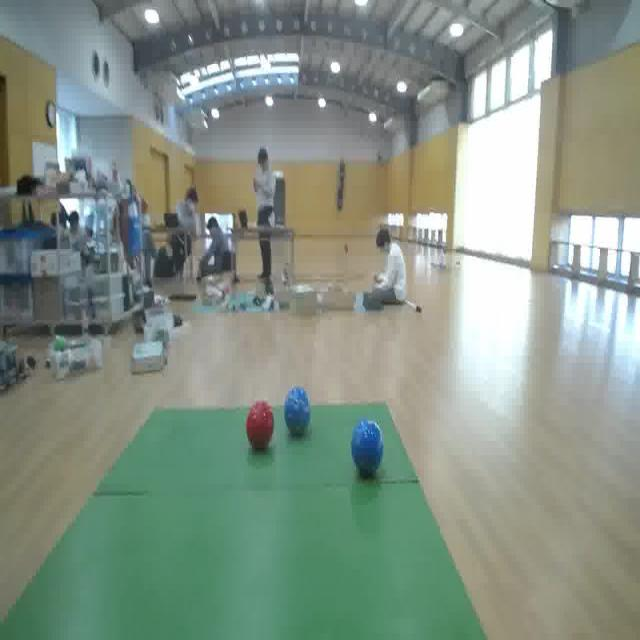blue_ball: (350, 414, 385, 481), (283, 385, 313, 440)
red_ball: (244, 398, 276, 456)
